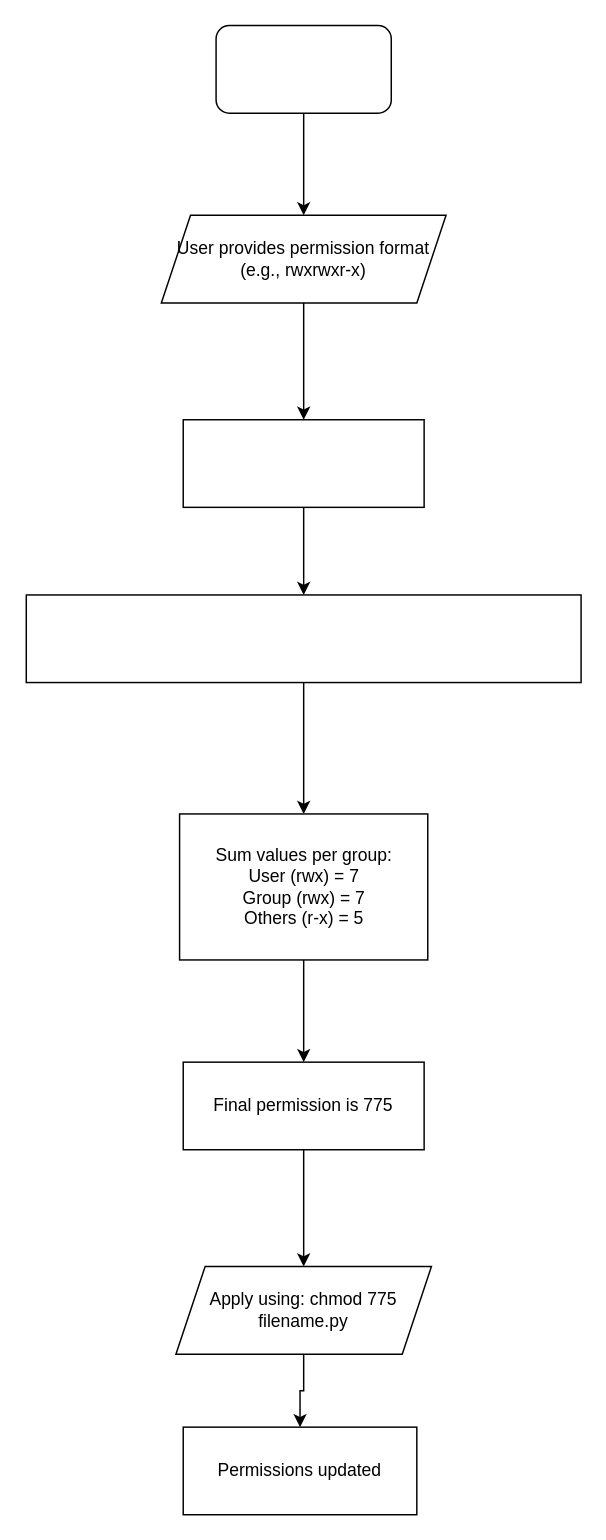
Some shapes in this 606 by 1540 pixel diagram are drawn without their labels. Each missing label, with the centre of its shape:
Convert each permission group into numeric value (r=4, w=2, x=1): (x=303, y=638)
Split into 3 groups: User, Group, Others: (x=303, y=462)
Start: (x=303, y=68)
